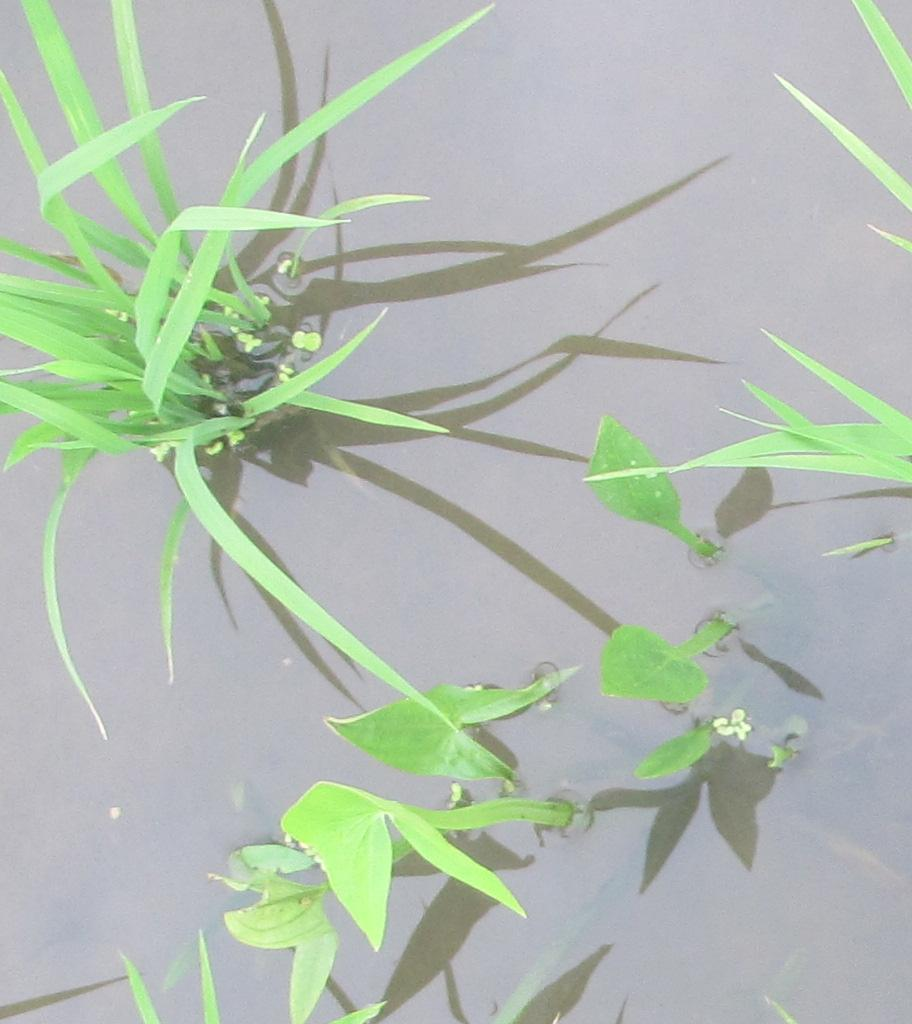Weed: (282, 772, 457, 911), (342, 677, 528, 783), (566, 410, 692, 538), (594, 621, 716, 713)
